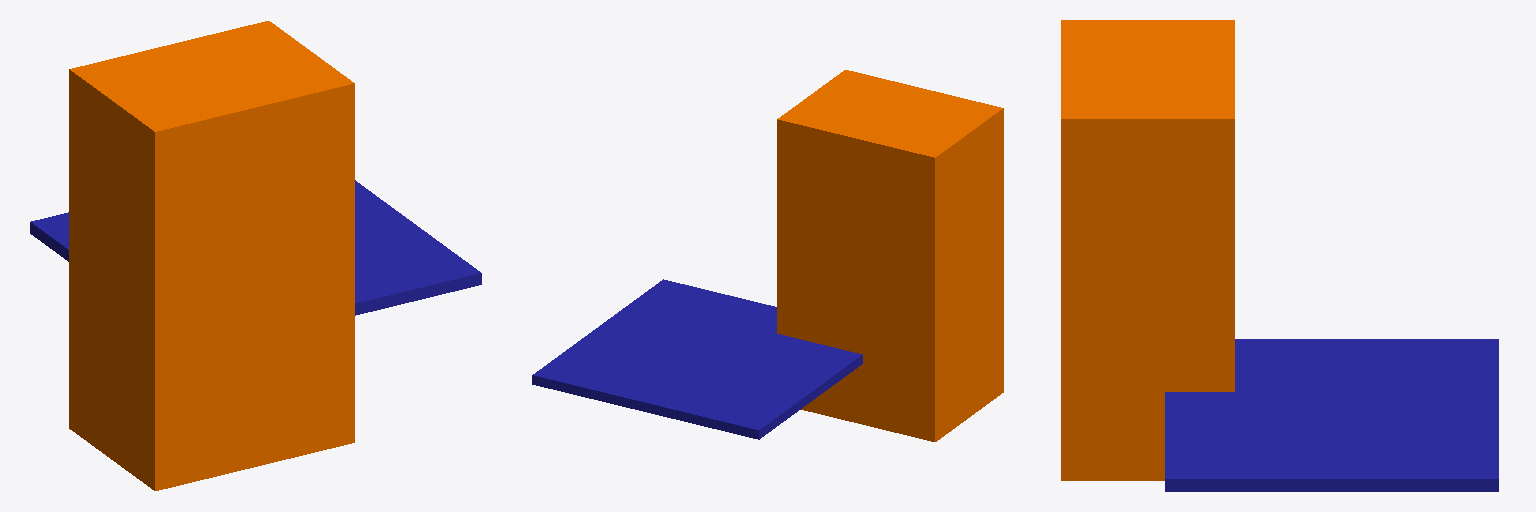
The robot description file, URDF, robot "workspace_feeding_demo_without_wall":
<?xml version="1.0" ?>
<robot name="workspace_feeding_demo_without_wall">

  <!--
  The origin is the front left upper corner of the tabletop.
  -->

  <material name="yellow">
    <color rgba="0.7 0.7 0.1 1"/>
  </material>
  <material name="green">
    <color rgba="0.2 0.7 0.2 .5"/>
  </material>
  <material name="blue">
    <color rgba="0.2 0.2 0.7 1"/>
  </material>
  <material name="orange">
    <color rgba="1 0.5 0 .2"/>
  </material>

  <link name="workspace">

    <!-- Floor -->
    <collision>
      <origin xyz="0.88 0.38 -0.81"/>
      <geometry>
        <box size="2.5 2.5 0.1"/>
      </geometry>
    </collision>
    <visual>
      <origin xyz="0.88 0.38 -0.81"/>
      <geometry>
        <box size="2.5 2.5 0.1"/>
      </geometry>
      <material name="blue"/>
    </visual>

    <collision>
        <origin xyz="-0.3 -1.0 0"/>
        <geometry>
            <box size="1.745 1.3 3"/>
        </geometry>
    </collision>
    <visual>
        <origin xyz="-0.3 -1.0 0"/>
        <geometry>
            <box size="1.745 1.3 3"/>
        </geometry>
        <material name="orange"/>
    </visual>

    <!--
     // Computer + Operator 
    <collision>
      <origin xyz="1.2 0 0.5"/>
      <geometry>
         // without safety margin: box size="1 0.61 3" 
        <box size="0.6 1.6 1.2"/>
      </geometry>
    </collision>
    <visual>
      <origin xyz="1.2 0 0.5"/>
      <geometry>
        <box size="0.6 1.6 1.2"/>
      </geometry>
      <material name="orange"/>
    </visual>
  -->
  </link>
</robot>

--- Render facts (derived) ---
The picture shows the robot from 3 angles, left to right: view 1: azimuth 30°, elevation 25°; view 2: azimuth 150°, elevation 25°; view 3: azimuth 270°, elevation 25°; orthographic projection.
Robot: workspace_feeding_demo_without_wall — 1 links, 0 joints (none); root link workspace; default pose: every joint at zero.
Links seen in each view (by area): view 1: workspace; view 2: workspace; view 3: workspace.
Link boxes in pixels (<box>): workspace: <box>30,21,481,490</box>; workspace: <box>532,70,1003,441</box>; workspace: <box>1061,20,1498,491</box>.
Size in the robot's own frame: 3.3 by 3.28 by 3 metres.
Geometry: primitives only (box / cylinder / sphere), no mesh files.